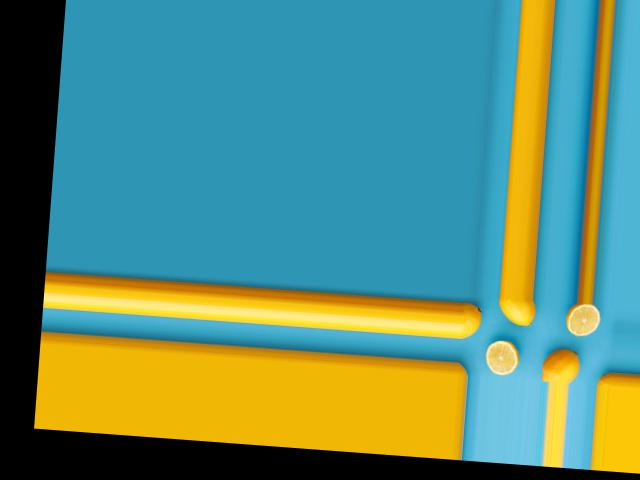lemon: (459, 306, 485, 342)
